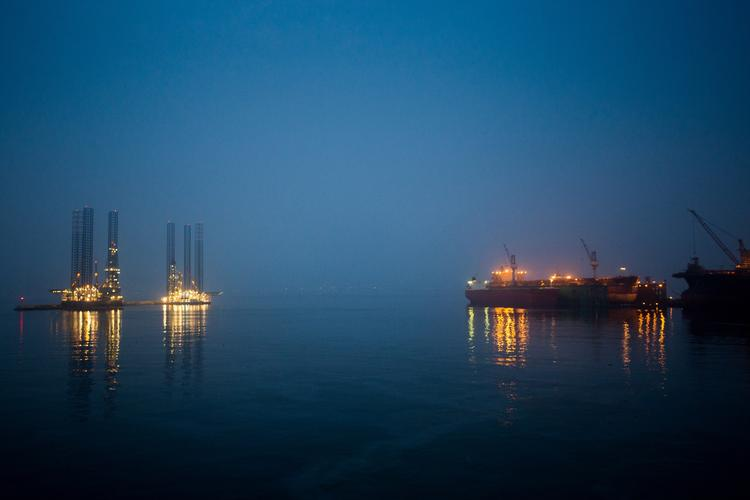sea_river: (37, 317, 573, 464)
sky_cloud: (1, 62, 750, 273)
